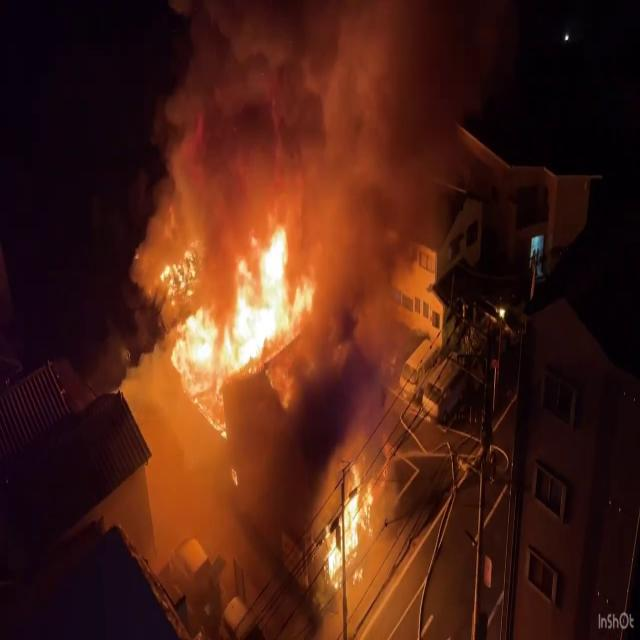Fire: (157, 209, 310, 432), (315, 455, 385, 621)
Smoke: (134, 0, 472, 250)
